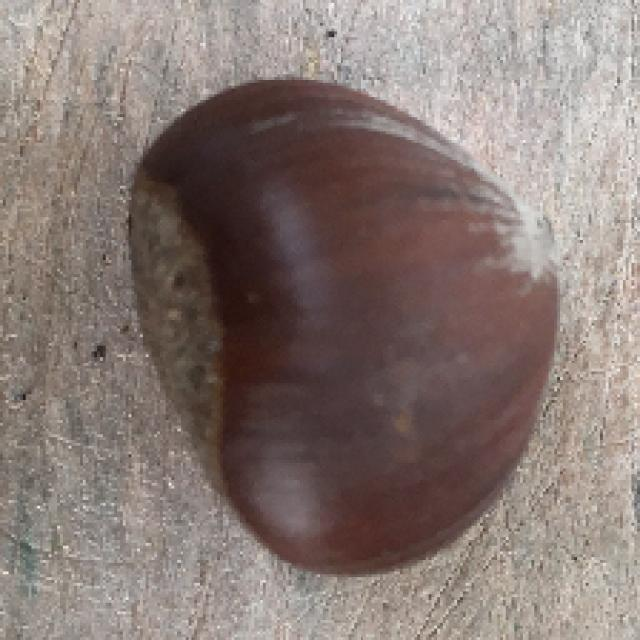damagedHazelnut: (104, 73, 576, 564)
